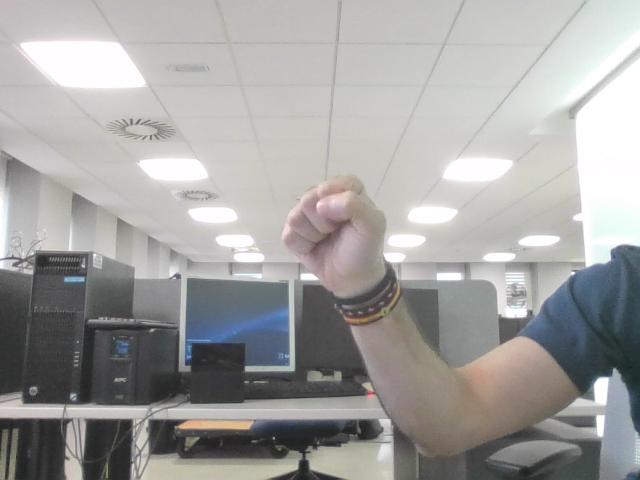Puño: (292, 190, 368, 254)
